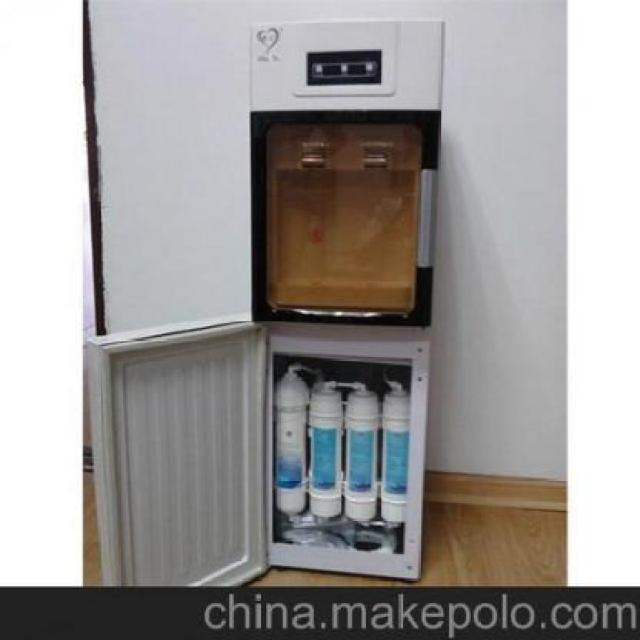cooler: (245, 17, 446, 579)
